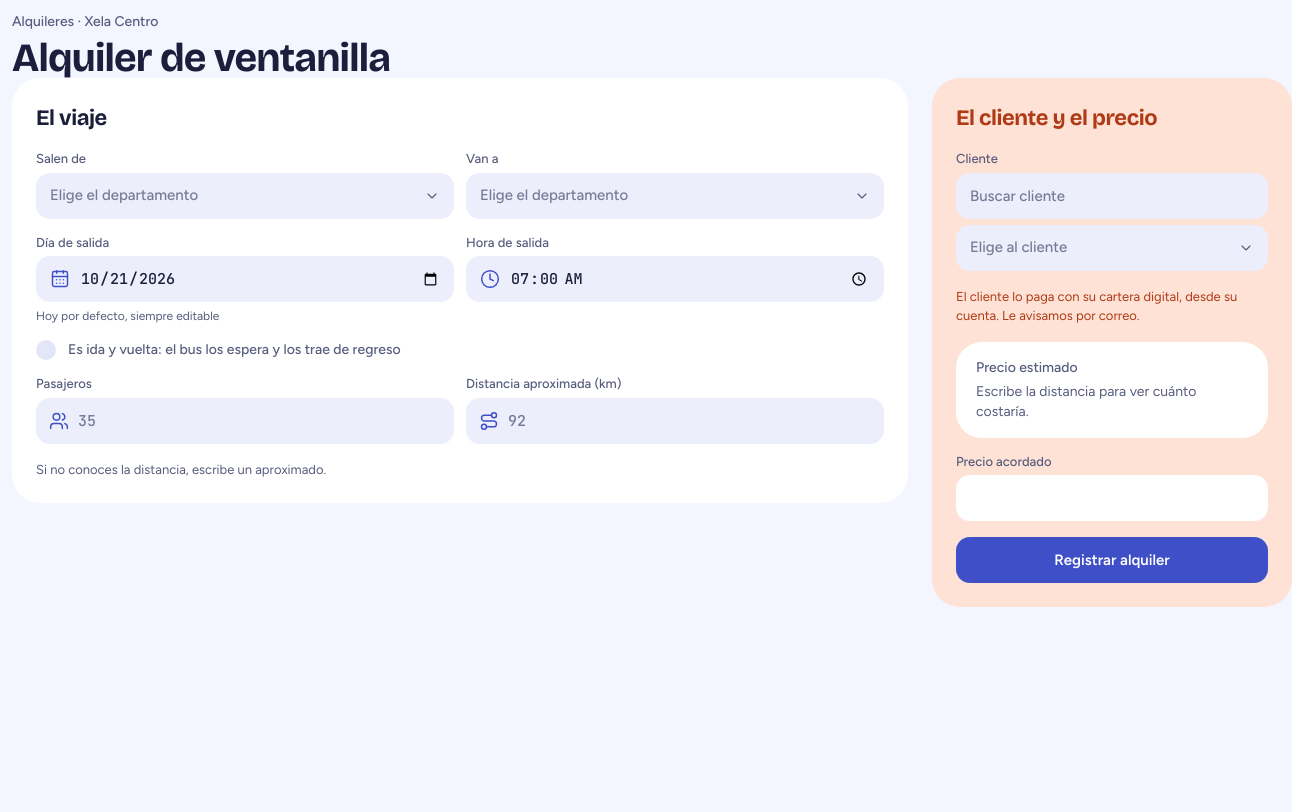
it: CounterRentalScreen › offers only the departments that have a branch, once each
The image size is (1292, 812).
Click the dropdown named "Van a".
click(554, 195)  # box [466,173,884,219]
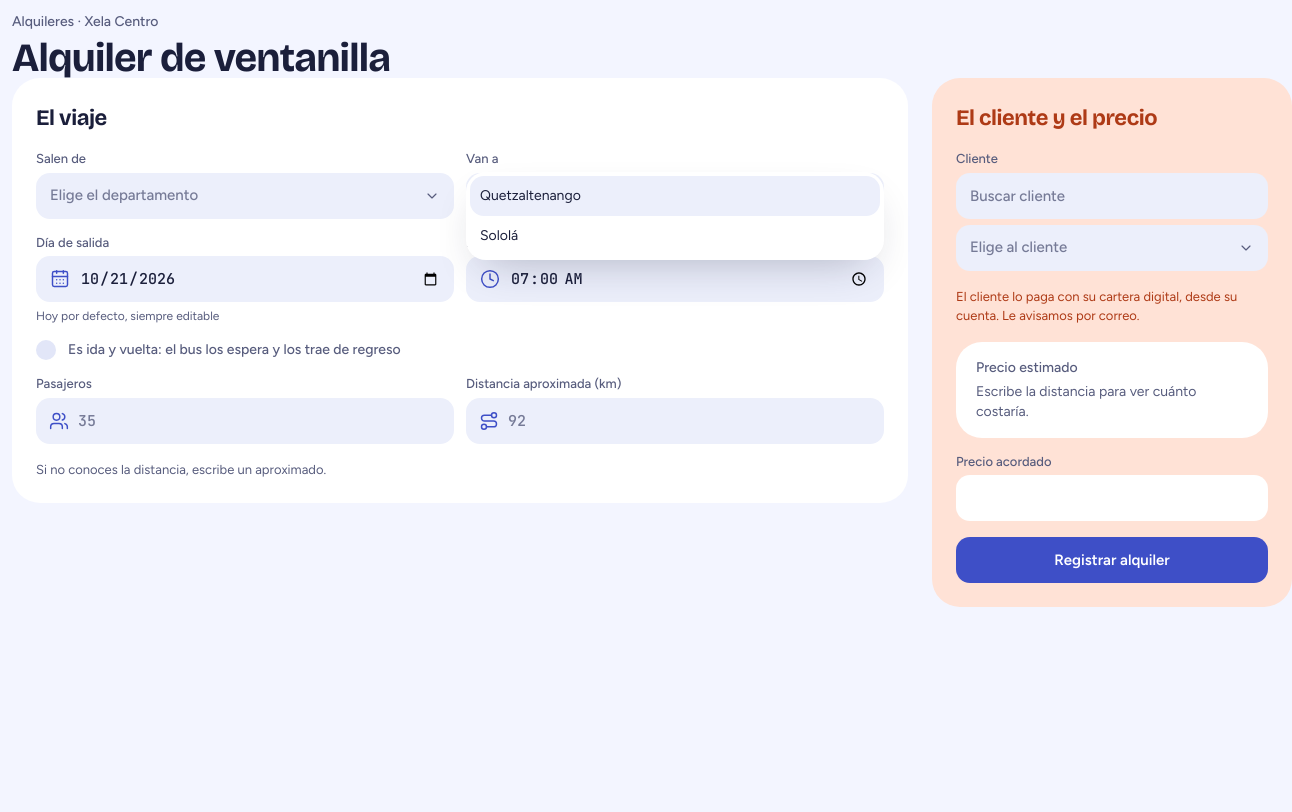
Now the options read "Quetzaltenango", "Sololá", in this order, box [470,176,880,216]; [480,227,518,244]
